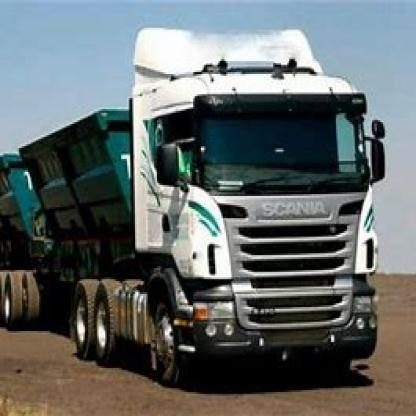dump_truck: (8, 15, 391, 381)
